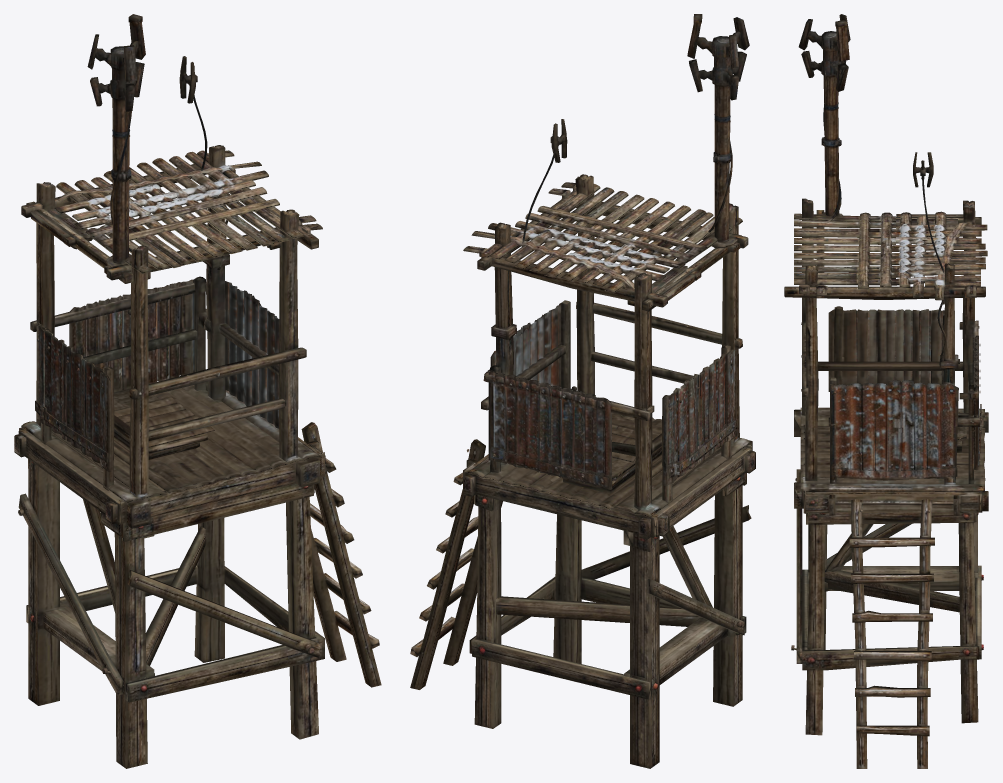
Rendered from jt_tower.glb.
3 renders of one model, left to right at view 1: azimuth 30°, elevation 25°; view 2: azimuth 150°, elevation 25°; view 3: azimuth 270°, elevation 25°, orthographic. The views are drawn at different scales.
Parts seen in each view (by area): view 1: tripo_67224d6e_0a1d_451c_b4f6_8636fd9eabe2; view 2: tripo_67224d6e_0a1d_451c_b4f6_8636fd9eabe2; view 3: tripo_67224d6e_0a1d_451c_b4f6_8636fd9eabe2.
Part boxes in pixels (box(x1,y1,x2,y2)): tripo_67224d6e_0a1d_451c_b4f6_8636fd9eabe2: box(14, 14, 381, 768); tripo_67224d6e_0a1d_451c_b4f6_8636fd9eabe2: box(410, 14, 755, 768); tripo_67224d6e_0a1d_451c_b4f6_8636fd9eabe2: box(784, 14, 988, 768).
Bounding box in the file's own units: 0.4233 × 0.9995 × 0.2876.
Materials: 1 (1 with a texture image).
